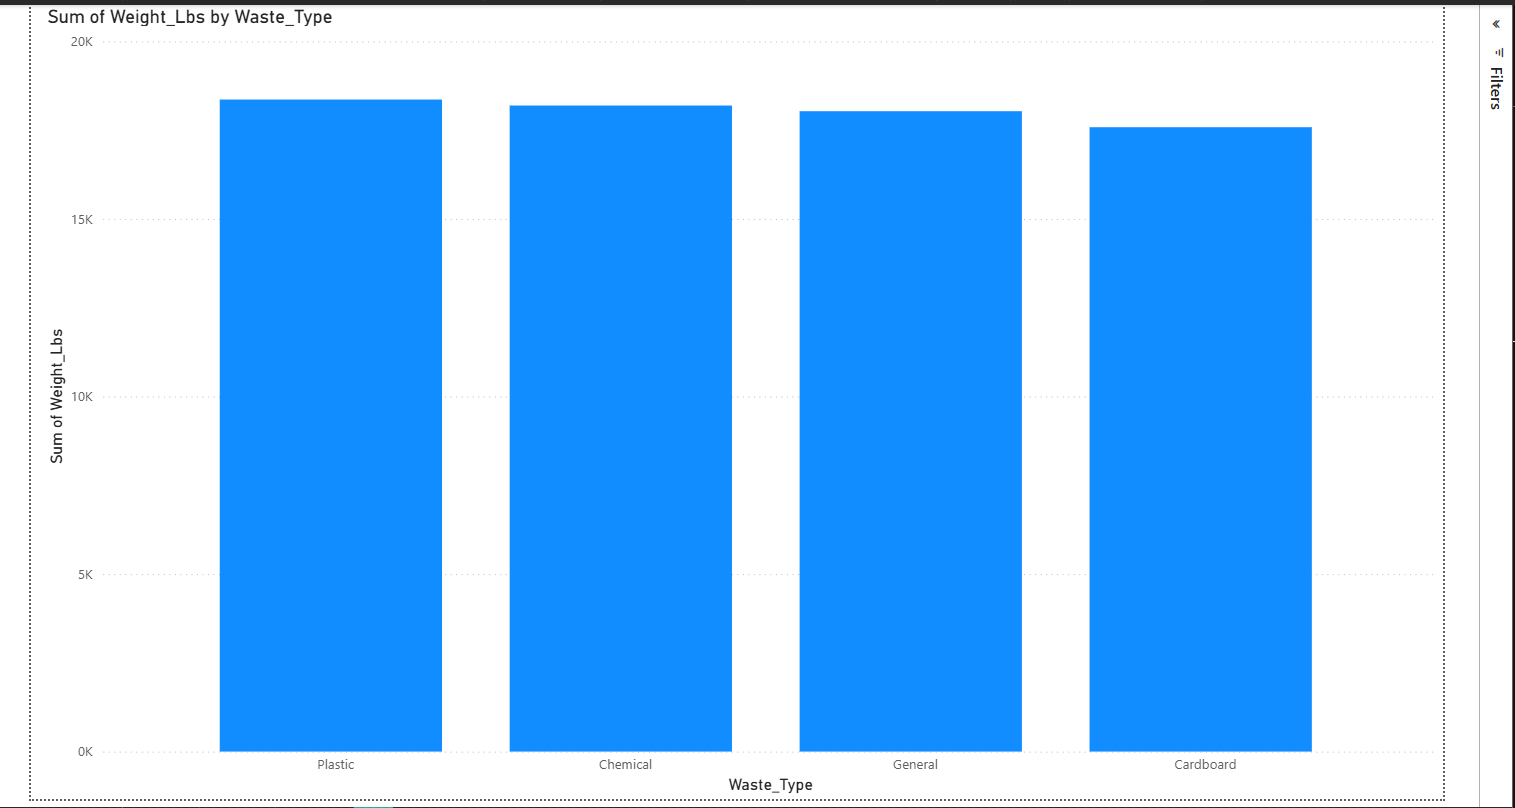

What the dashboard file says about the page in this screenshot:
{"tool":"powerbi","page":{"name":"Page 3","canvas":[1280,720],"ordinal":2},"visuals":[{"type":"columnChart","fields":{"Category":["Waste.Waste_Type"],"Y":["Sum(Waste.Weight_Lbs)"]},"box":[10,0,1270.4,720],"z":0}]}

Visuals, with their boxes on the page's 1280x720 design canvas (x1, y1, x2, y2). These are canvas units, not pixel positions in the 1515x808 screenshot, which may show the page scaled, cropped or inside an application window:
columnChart - Waste.Waste_Type x Sum(Waste.Weight_Lbs): bbox(10, 0, 1280, 720)
